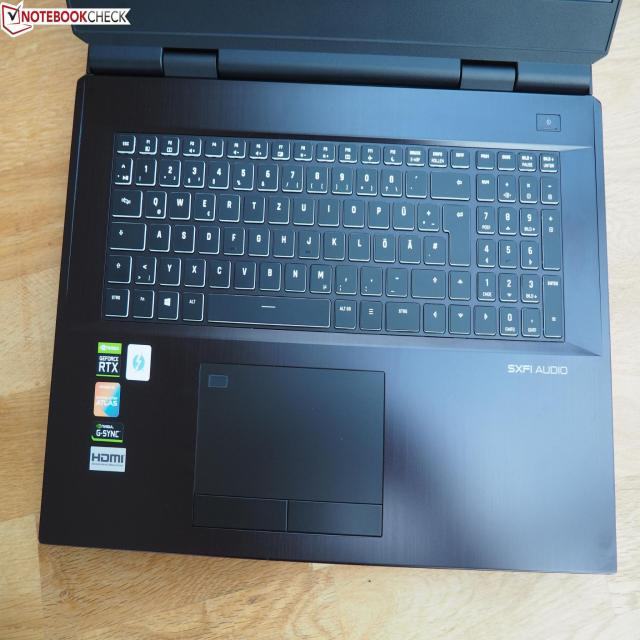0: (354, 165, 377, 193)
1: (134, 155, 155, 183)
2: (158, 156, 180, 184)
3: (182, 157, 204, 185)
4: (206, 158, 228, 186)
5: (231, 159, 253, 188)
6: (256, 161, 278, 189)
7: (280, 161, 302, 190)
8: (305, 162, 327, 191)
9: (330, 163, 352, 192)
a: (147, 221, 169, 250)
accent: (404, 167, 425, 195)
ae: (397, 231, 420, 261)
alt-left: (180, 289, 203, 319)
altgr-right: (333, 297, 356, 327)
b: (258, 259, 280, 289)
c: (207, 256, 229, 286)
caret: (112, 154, 131, 183)
comma: (333, 263, 356, 292)
d: (197, 223, 219, 252)
del: (430, 168, 469, 197)
e: (192, 190, 214, 219)
enter: (442, 200, 469, 264)
f: (222, 224, 243, 253)
g: (246, 225, 268, 254)
h: (272, 225, 294, 255)
hash: (422, 233, 445, 263)
i: (317, 195, 339, 224)
j: (297, 226, 318, 256)
k: (322, 227, 344, 258)
keyboard: (96, 117, 580, 356)
l: (347, 229, 369, 259)
less: (133, 253, 155, 283)
m: (308, 261, 331, 291)
minus: (384, 265, 407, 294)
n: (283, 260, 305, 290)
o: (341, 196, 364, 225)
oe: (372, 230, 394, 260)
p: (367, 197, 389, 226)
plus: (417, 200, 439, 229)
point: (359, 264, 382, 294)
q: (143, 188, 166, 217)
r: (217, 191, 239, 219)
s: (172, 222, 194, 250)
shift-left: (105, 253, 130, 282)
shift-lock: (108, 219, 145, 248)
shift-right: (410, 266, 445, 296)
space: (206, 292, 330, 325)
ss: (379, 166, 401, 195)
strg-left: (103, 285, 129, 315)
strg-right: (384, 299, 420, 330)
t: (243, 190, 264, 220)
tab: (110, 187, 141, 215)
u: (292, 193, 314, 223)
ue: (391, 198, 413, 228)
v: (232, 258, 255, 287)
w: (168, 188, 190, 217)
x: (182, 255, 204, 284)
y: (158, 255, 180, 284)
z: (267, 193, 288, 221)
